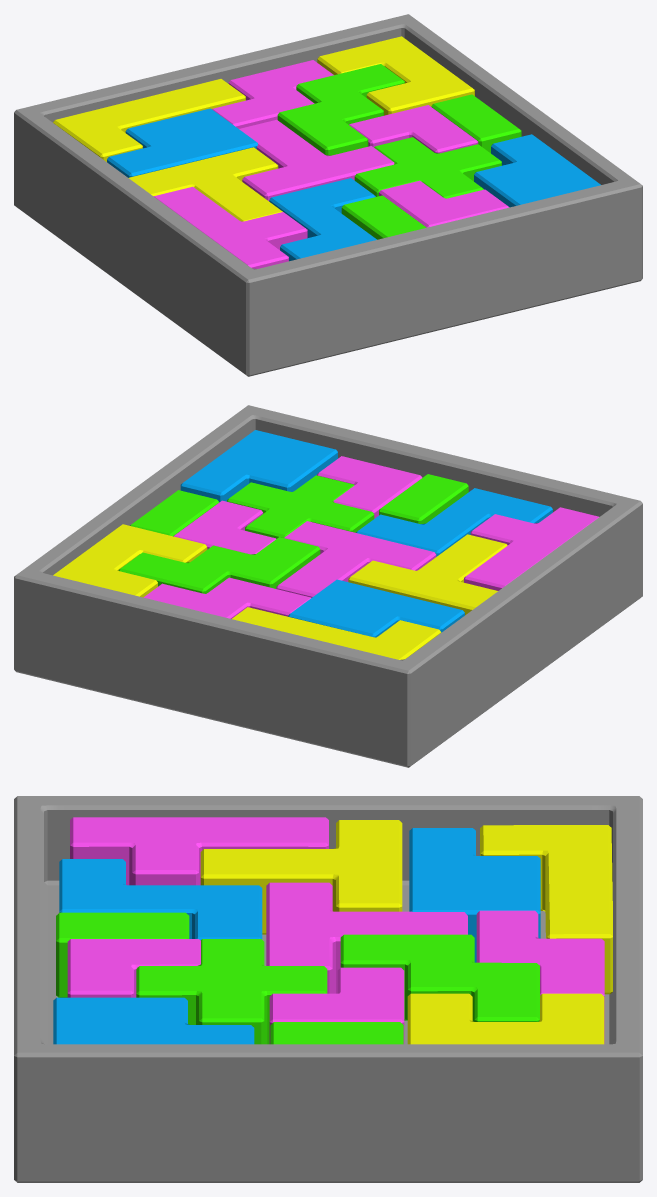
The model's file is Puzzles.fbx.
3 views of the same model, one above another, from view 1: azimuth 30°, elevation 25°; view 2: azimuth 150°, elevation 25°; view 3: azimuth 270°, elevation 25° (orthographic). The views are drawn at different scales.
Visible parts, largest first — view 1: pCube1, pCube9, pCube4, pCube7, pCube2, pCube6, pCube12, pCube5, pCube14, pCube3, pCube8, pCube13 (+4 smaller); view 2: pCube1, pCube14, pCube9, pCube12, pCube6, pCube7, pCube3, pCube8, pCube5, pCube2, pCube4, pCube13 (+4 smaller); view 3: pCube1, pCube5, pCube12, pCube4, pCube9, pCube3, pCube6, pCube8, pCube7, pCube2, pCube14, pCube13 (+4 smaller).
Boxes of the visible parts, bbox=[...] form: pCube1: bbox=[14, 14, 642, 376]; pCube9: bbox=[277, 64, 404, 155]; pCube4: bbox=[53, 79, 245, 161]; pCube7: bbox=[239, 119, 394, 201]; pCube2: bbox=[317, 36, 474, 115]; pCube6: bbox=[107, 108, 257, 177]; pCube12: bbox=[129, 147, 282, 221]; pCube5: bbox=[154, 186, 307, 268]; pCube14: bbox=[474, 134, 600, 207]; pCube3: bbox=[354, 137, 501, 198]; pCube8: bbox=[269, 178, 376, 261]; pCube13: bbox=[212, 60, 333, 128]; pCube1: bbox=[14, 405, 642, 767]; pCube14: bbox=[180, 430, 337, 502]; pCube9: bbox=[118, 537, 320, 593]; pCube12: bbox=[348, 534, 507, 615]; pCube6: bbox=[288, 579, 464, 637]; pCube7: bbox=[276, 521, 436, 597]; pCube3: bbox=[227, 475, 374, 538]; pCube8: bbox=[356, 488, 552, 556]; pCube5: bbox=[464, 507, 598, 590]; pCube2: bbox=[53, 524, 207, 597]; pCube4: bbox=[232, 607, 441, 659]; pCube13: bbox=[143, 577, 310, 618]; pCube1: bbox=[14, 796, 642, 1182]; pCube5: bbox=[70, 817, 328, 885]; pCube12: bbox=[200, 820, 402, 934]; pCube4: bbox=[480, 825, 612, 994]; pCube9: bbox=[340, 934, 539, 1021]; pCube3: bbox=[136, 939, 327, 1044]; pCube6: bbox=[409, 828, 540, 962]; pCube8: bbox=[59, 859, 262, 940]; pCube7: bbox=[266, 882, 467, 993]; pCube2: bbox=[407, 993, 604, 1044]; pCube14: bbox=[53, 997, 254, 1044]; pCube13: bbox=[476, 910, 604, 1043].
Size of the model in its own units: 472 by 110 by 483.
